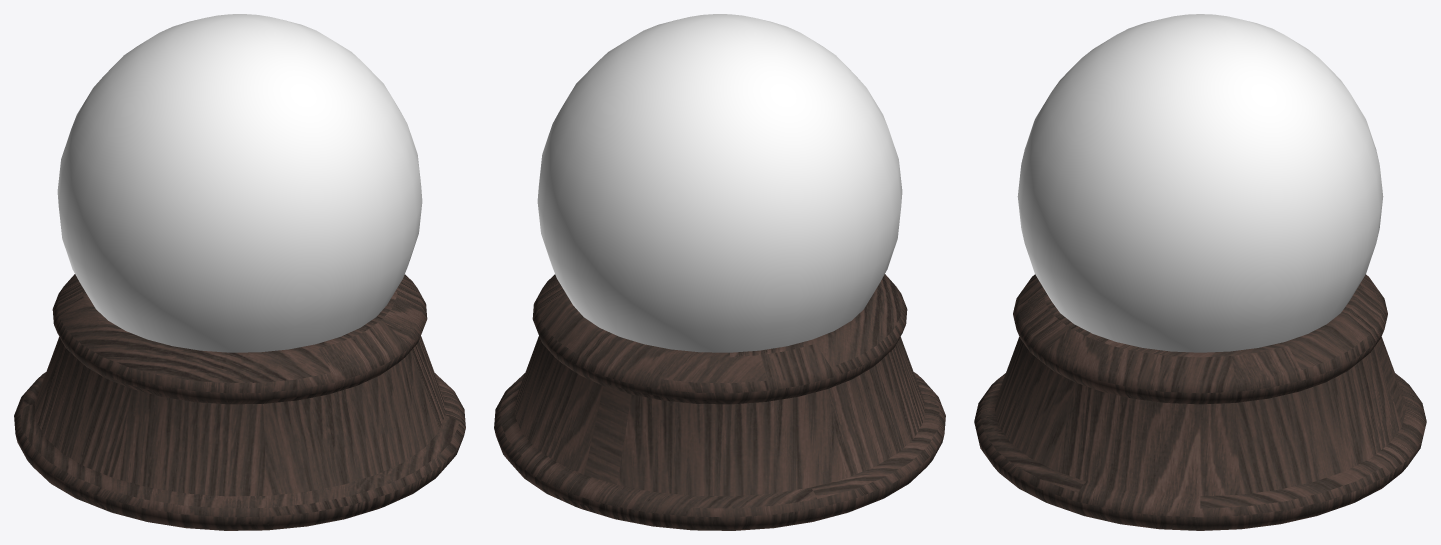
File: Snowglobe.fbx
The picture shows the model from 3 angles, left to right: view 1: azimuth 30°, elevation 25°; view 2: azimuth 150°, elevation 25°; view 3: azimuth 270°, elevation 25°; orthographic projection.
Parts seen in each view (by area): view 1: Snowglobe.002; view 2: Snowglobe.002; view 3: Snowglobe.002.
Part boxes in pixels (x1,y1,x2,y2): Snowglobe.002: [14, 14, 465, 530]; Snowglobe.002: [494, 14, 945, 530]; Snowglobe.002: [974, 14, 1426, 530].
Bounding box in the file's own units: 61.52 × 61.7 × 61.52.
